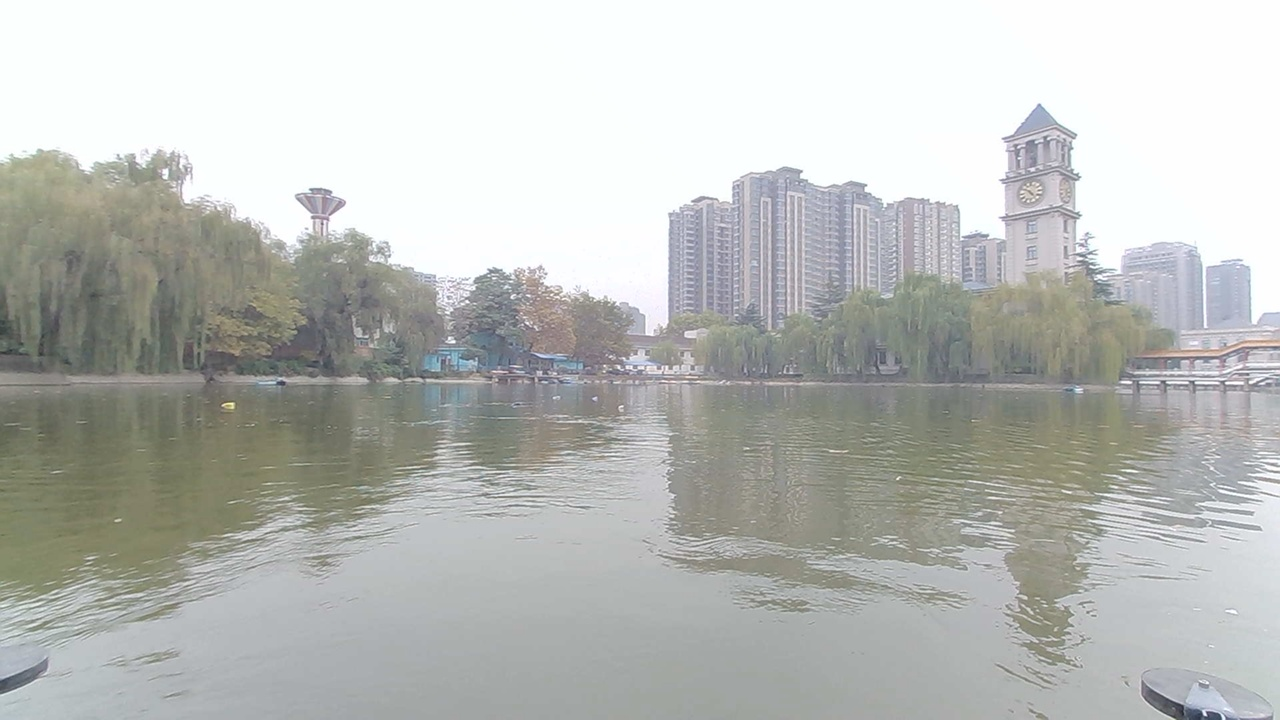bottle: (602, 398, 645, 422), (538, 384, 579, 406), (208, 392, 239, 415), (582, 388, 607, 404)
